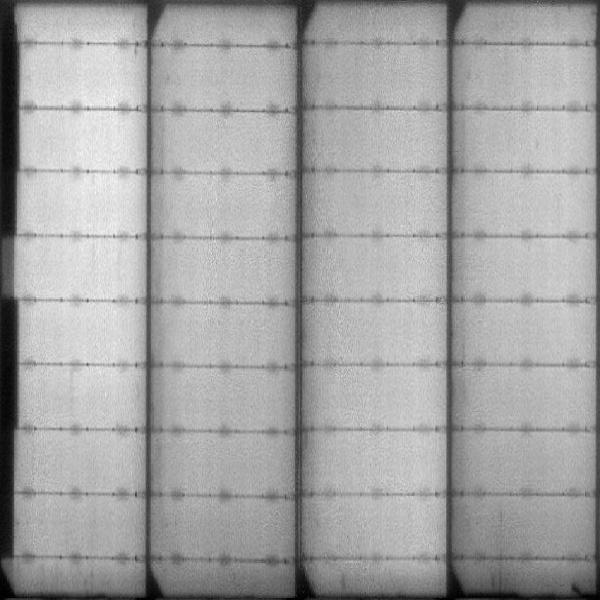black_border: (1, 236, 22, 565), (2, 2, 24, 235)
